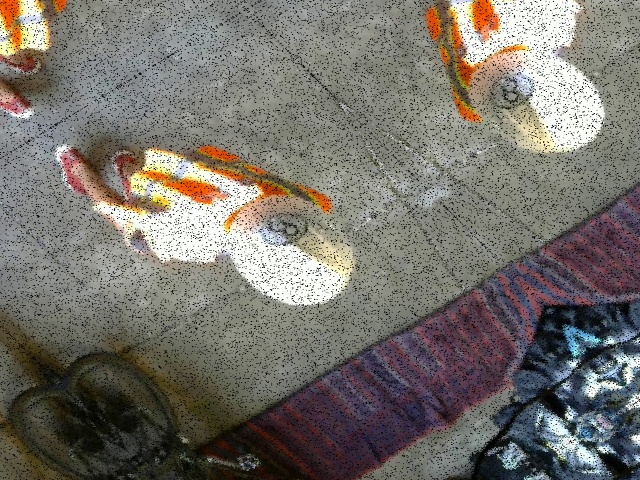eight: (250, 203, 315, 253)
